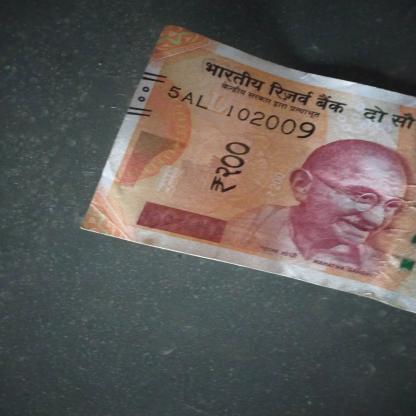New200Front: (98, 25, 415, 305)
